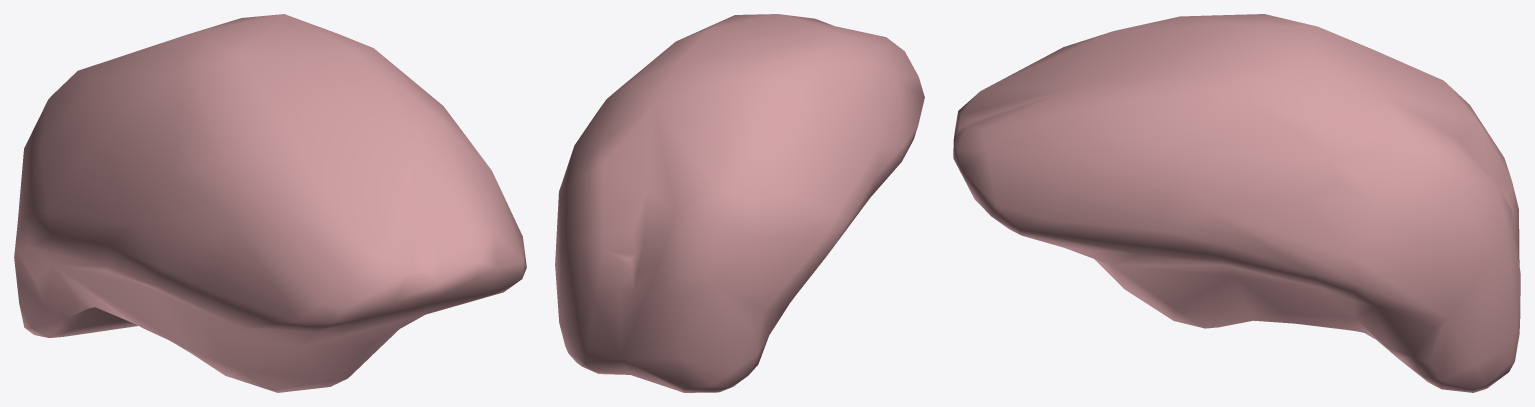
File: fma54640_fj2761.glb
3 renders of one model, left to right at view 1: azimuth 30°, elevation 25°; view 2: azimuth 150°, elevation 25°; view 3: azimuth 270°, elevation 25°, orthographic. The views are drawn at different scales.
Visible parts, largest first — view 1: FMA54640_FJ2761; view 2: FMA54640_FJ2761; view 3: FMA54640_FJ2761.
Boxes of the visible parts, bbox=[...] form: FMA54640_FJ2761: bbox=[14, 14, 526, 392]; FMA54640_FJ2761: bbox=[555, 14, 924, 392]; FMA54640_FJ2761: bbox=[953, 14, 1520, 392].
Bounding box in the file's own units: 0.0388 × 0.0364 × 0.0594.
